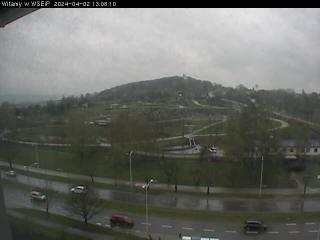car: (108, 213, 136, 228), (243, 219, 268, 232), (29, 190, 48, 203), (70, 185, 89, 196), (4, 169, 18, 178)
